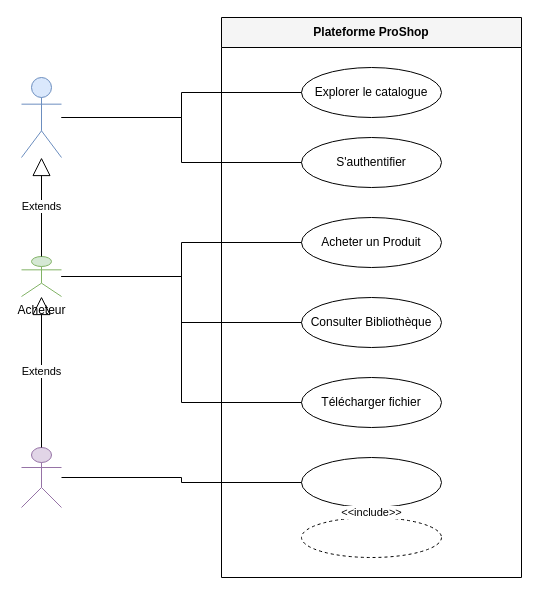
This 539x595 diagram has some shape labels left out. The centre of each missing label's shape, as x and y in pixels:
Créer un Produit: pixel 371 482
Uploader médias: pixel 371 537
Vendeur: pixel 41 477
Visiteur: pixel 41 117
